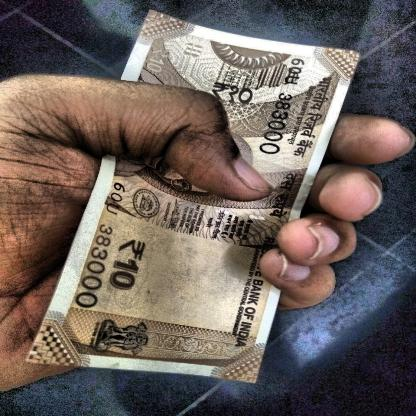Rs10: (102, 231, 157, 299)
